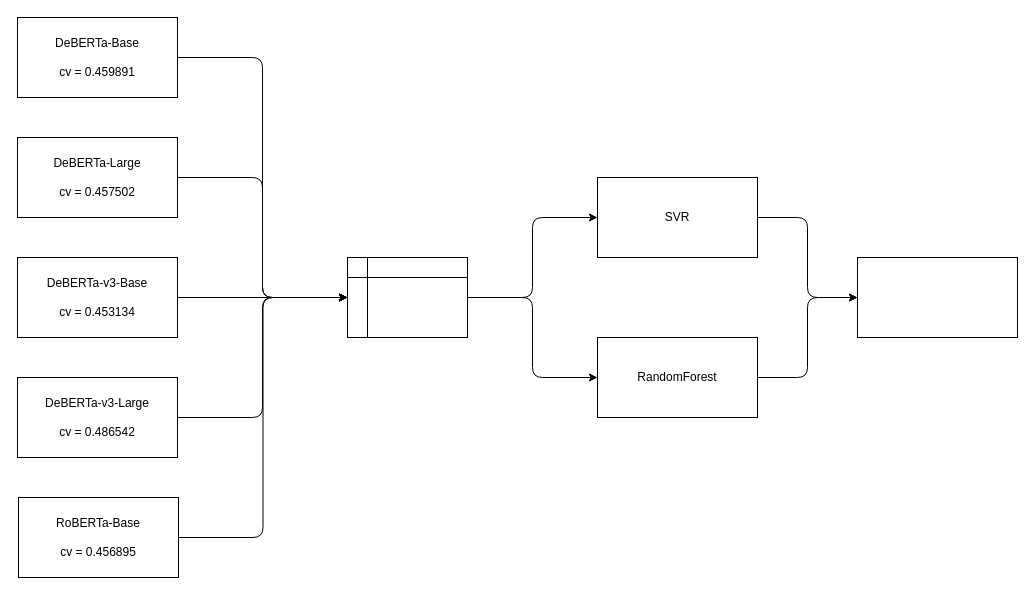
This 1035x595 diagram has some shape labels left out. The shapes that lost their labels are listed below. From the top down, each one's centre as x and y in pixels, then its label:
(407,297): OOFs
(937,297): Submission cv = 0.450759
